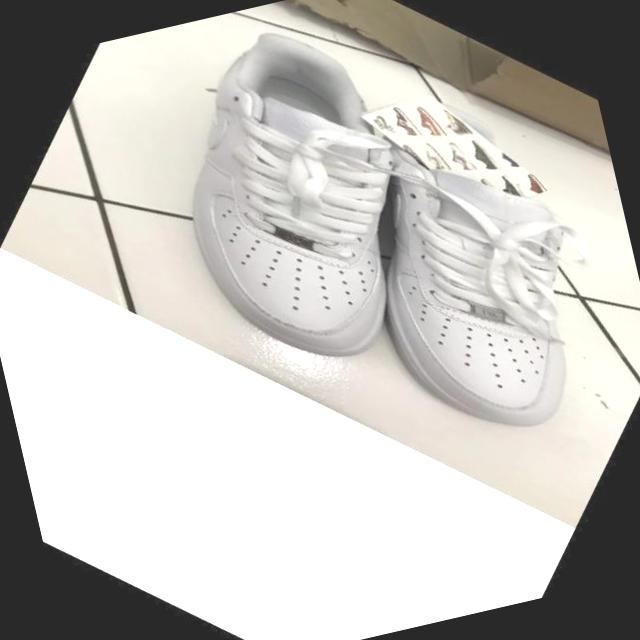nike_original_airforce: (60, 0, 533, 435), (245, 23, 640, 500)
